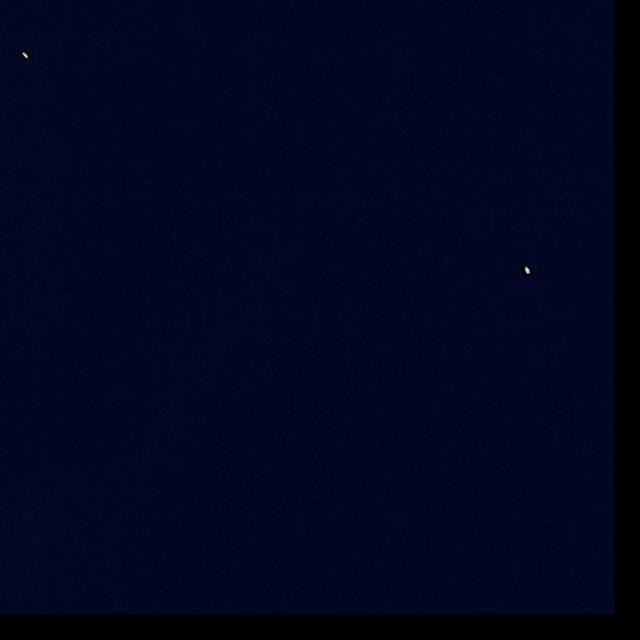ship: (22, 52, 30, 59), (525, 266, 530, 274)
